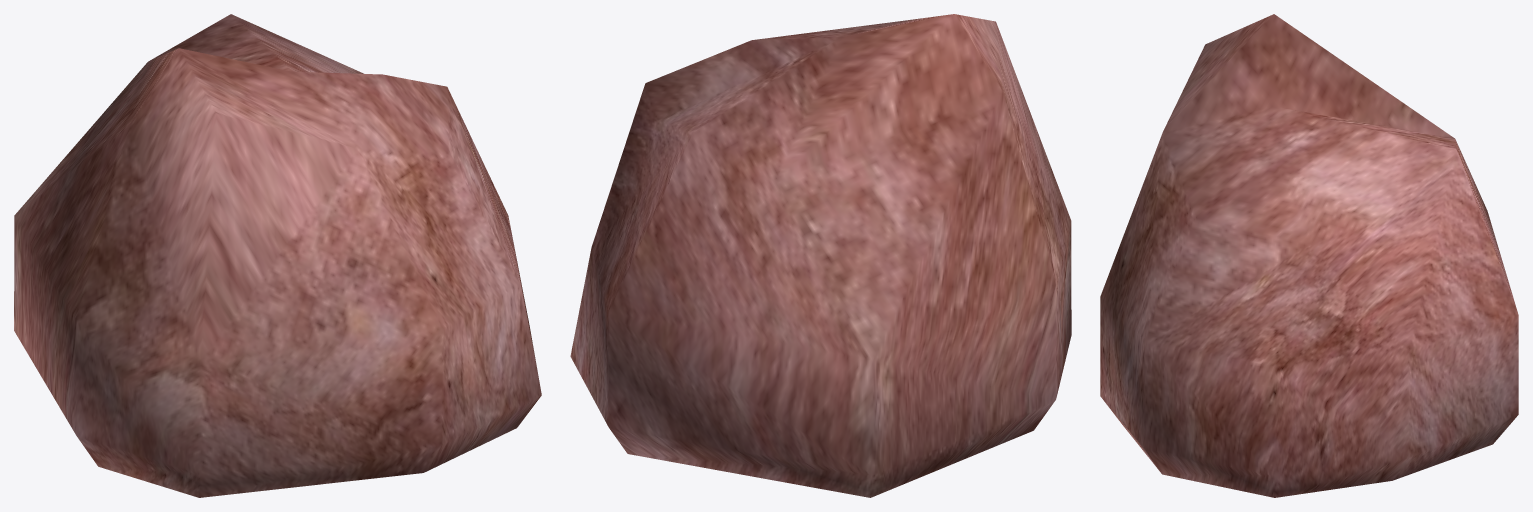
File: rock2.glb
The picture shows the model from 3 angles, left to right: view 1: azimuth 30°, elevation 25°; view 2: azimuth 150°, elevation 25°; view 3: azimuth 270°, elevation 25°; orthographic projection. The views are drawn at different scales.
Parts seen in each view (by area): view 1: Rock01; view 2: Rock01; view 3: Rock01.
Part boxes in pixels (left/top/right/bottom): Rock01: left=14, top=14, right=541, bottom=497; Rock01: left=570, top=14, right=1071, bottom=497; Rock01: left=1100, top=14, right=1518, bottom=497.
Bounding box in the file's own units: 5.33 × 4.49 × 4.93.
1 material, 1 textured.
